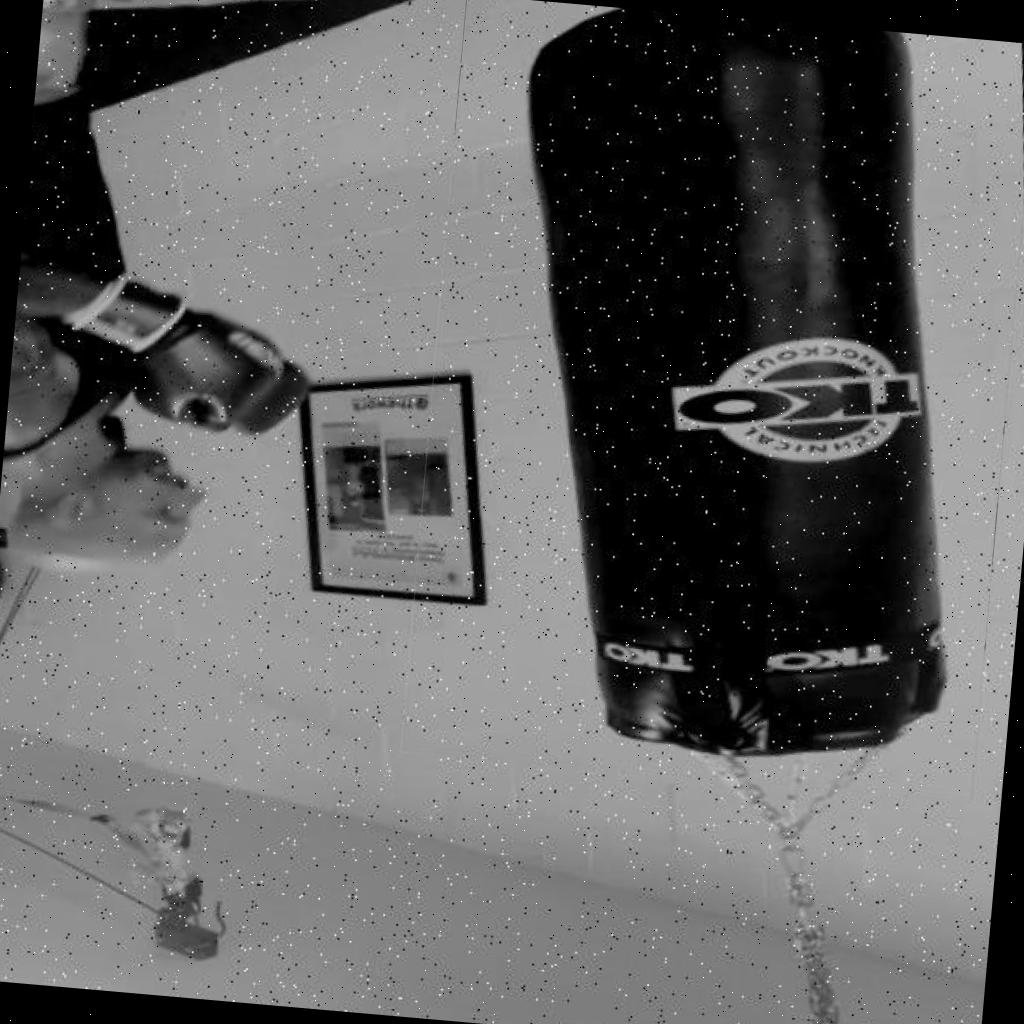bag: (401, 0, 1024, 801)
no punch: (0, 195, 383, 626)
